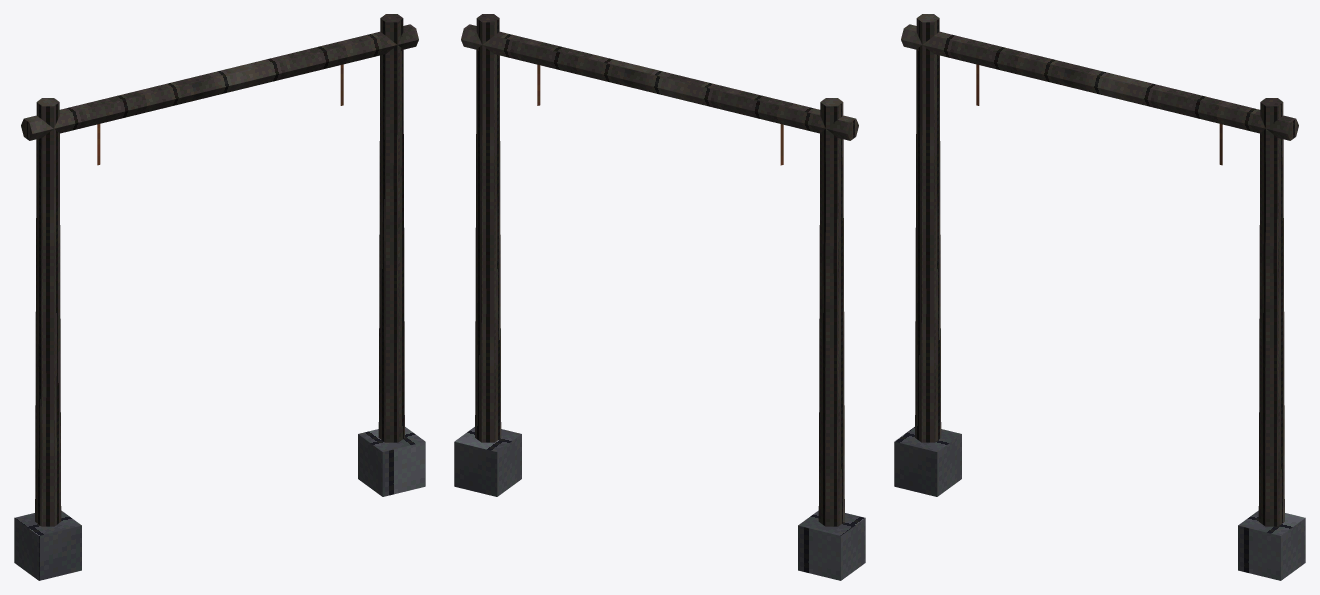
The model's file is poste_letrero.obj.
3 renders of one model, left to right at view 1: azimuth 30°, elevation 25°; view 2: azimuth 150°, elevation 25°; view 3: azimuth 330°, elevation 25°, orthographic.
Visible parts, largest first — view 1: poste_letrero; view 2: poste_letrero; view 3: poste_letrero.
Boxes of the visible parts, <box> form: poste_letrero: <box>14,14,425,580</box>; poste_letrero: <box>454,14,865,580</box>; poste_letrero: <box>894,14,1305,580</box>.
Size of the model in its own units: 2.7 by 3.1 by 0.3.
3 materials, 3 textured.
